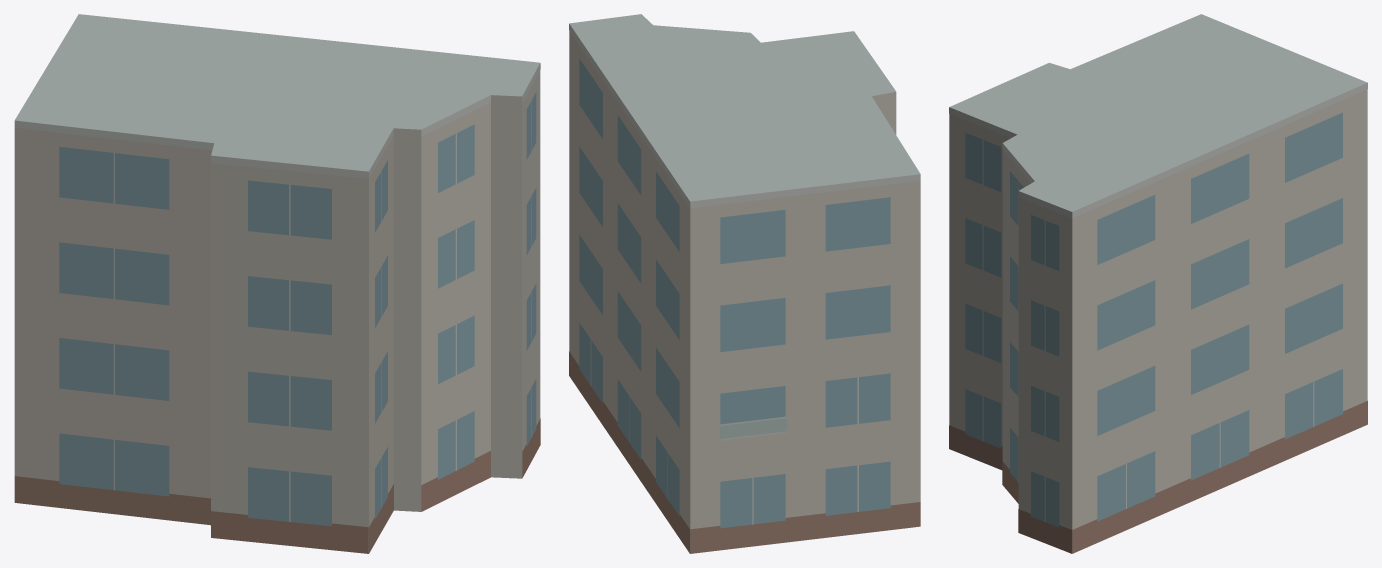
Rendered from survey-upis-32804814.glb.
3 views of the same model, side by side, from view 1: azimuth 30°, elevation 25°; view 2: azimuth 150°, elevation 25°; view 3: azimuth 270°, elevation 25° (orthographic). The views are drawn at different scales.
Visible parts, largest first — view 1: survey-upis-32804814.tmp; view 2: survey-upis-32804814.tmp; view 3: survey-upis-32804814.tmp.
Boxes of the visible parts, left/top/right/bottom form: survey-upis-32804814.tmp: left=14, top=14, right=540, bottom=553; survey-upis-32804814.tmp: left=569, top=14, right=920, bottom=553; survey-upis-32804814.tmp: left=949, top=14, right=1367, bottom=553.
Size of the model in its own units: 16.03 by 12.9 by 14.32.
